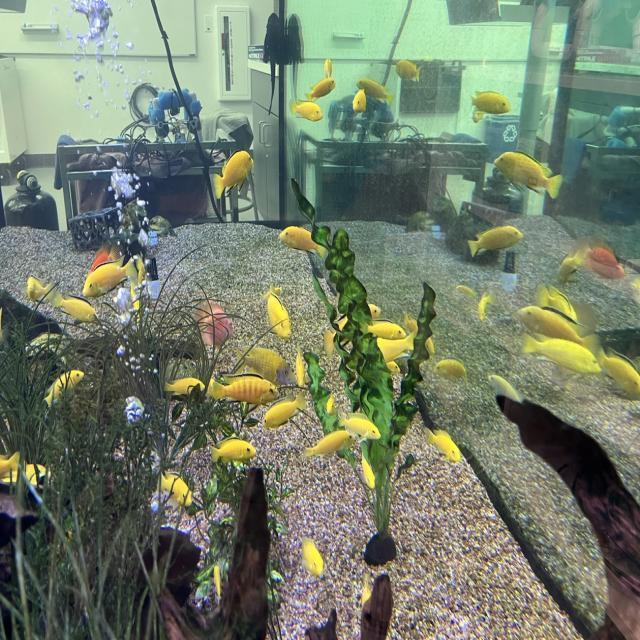YellowCichlid: (448, 224, 537, 256), (208, 142, 259, 195), (76, 252, 124, 304), (500, 152, 560, 192), (158, 461, 203, 514), (520, 339, 598, 368), (298, 534, 332, 598), (213, 375, 279, 407), (422, 420, 460, 470), (263, 284, 294, 338), (246, 344, 302, 372), (310, 427, 349, 467), (212, 434, 258, 467), (520, 310, 574, 338), (280, 220, 318, 259), (535, 283, 584, 313), (436, 352, 474, 388), (471, 80, 507, 118), (165, 370, 208, 400), (548, 250, 584, 285), (393, 55, 426, 88), (290, 93, 322, 127), (350, 414, 382, 445), (261, 406, 305, 428), (609, 351, 633, 390), (448, 276, 479, 306), (211, 554, 230, 601), (356, 452, 378, 492), (65, 295, 93, 325), (129, 254, 146, 303), (18, 274, 46, 302), (48, 374, 86, 394), (318, 326, 339, 362), (0, 452, 22, 485), (357, 78, 390, 100), (471, 304, 496, 332), (313, 78, 352, 94), (320, 392, 343, 419), (27, 466, 48, 492), (378, 338, 408, 356), (371, 323, 406, 338), (385, 360, 404, 383), (351, 100, 375, 116), (368, 298, 384, 322), (358, 580, 372, 606), (320, 61, 347, 72), (294, 377, 308, 393), (407, 314, 417, 330), (425, 339, 433, 354)
